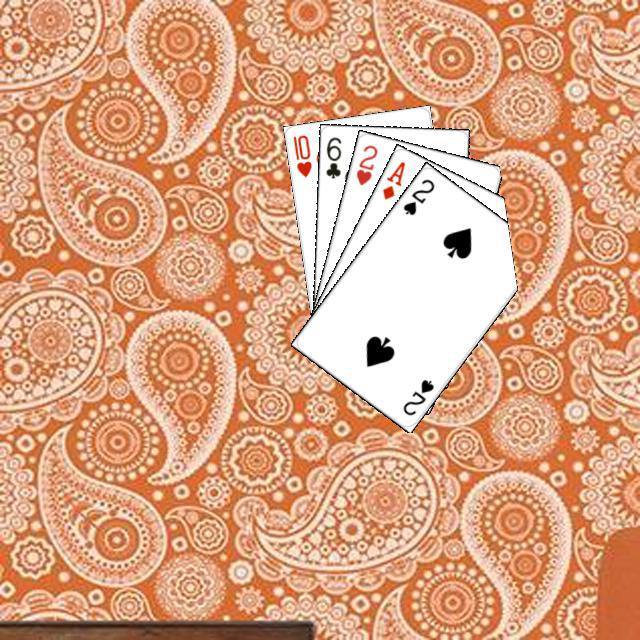10h: (288, 130, 313, 179)
2h: (351, 140, 379, 187)
2s: (398, 174, 436, 217), (398, 374, 436, 417)
6c: (321, 132, 343, 180)
Ad: (377, 156, 407, 201)
